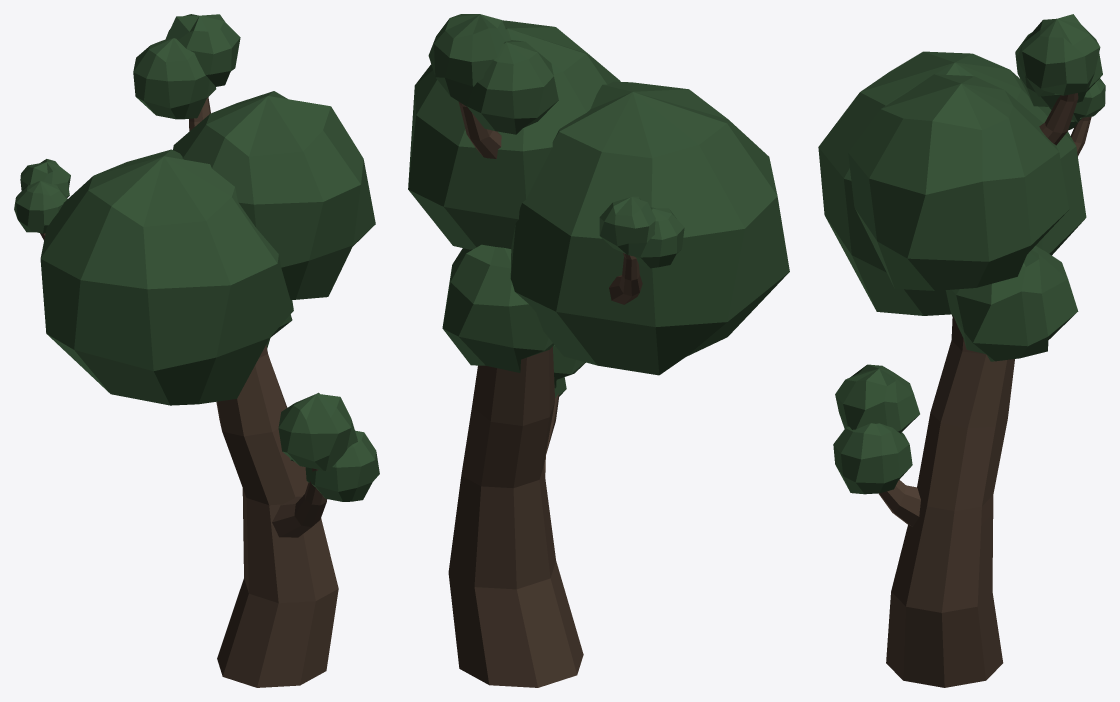
The model's file is Tree2.fbx.
3 views of the same model, side by side, from view 1: azimuth 30°, elevation 25°; view 2: azimuth 150°, elevation 25°; view 3: azimuth 270°, elevation 25° (orthographic). The views are drawn at different scales.
Visible parts, largest first — view 1: Tree2; view 2: Tree2; view 3: Tree2.
Boxes of the visible parts, x1=… form: Tree2: x1=14, y1=14, x2=379, y2=687; Tree2: x1=408, y1=14, x2=789, y2=687; Tree2: x1=818, y1=14, x2=1105, y2=687.
Size of the model in its own units: 88.67 by 172 by 70.32.
